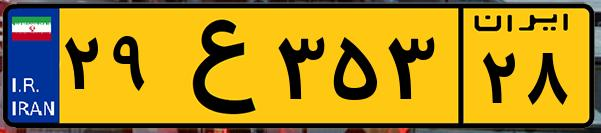2: (57, 26, 110, 100), (475, 38, 525, 113)
3: (270, 28, 330, 110), (385, 28, 445, 110)
5: (330, 28, 385, 110)
8: (525, 38, 570, 115)
9: (110, 28, 158, 98)
ع: (158, 12, 270, 120)
